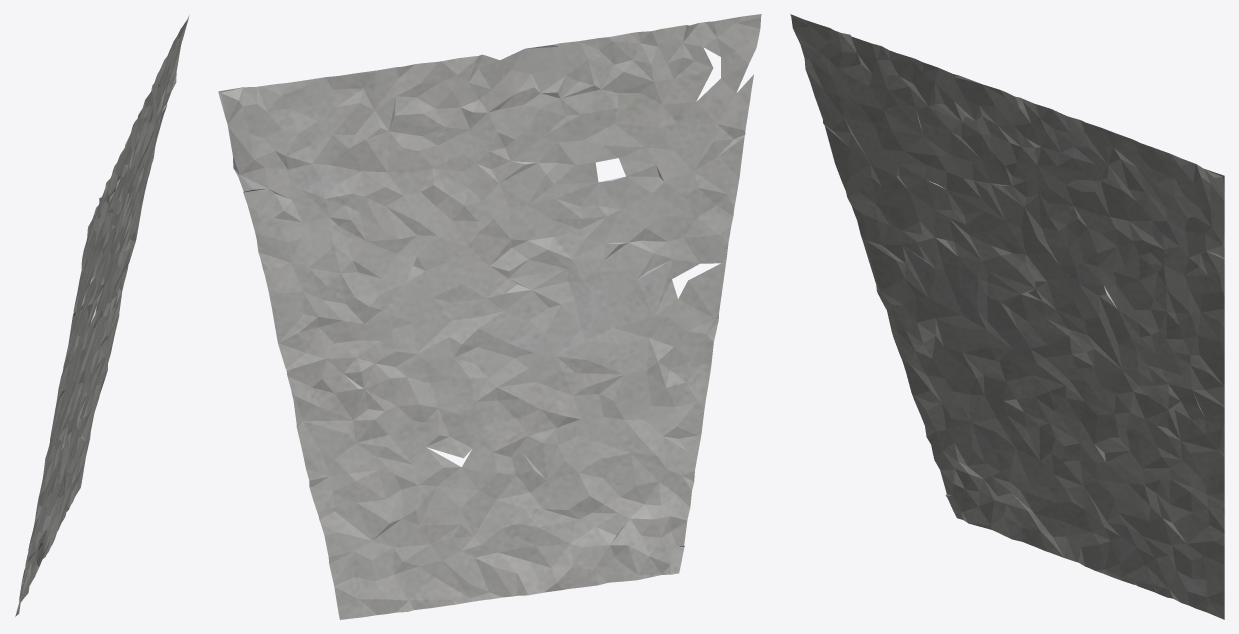
The picture shows the model from 3 angles, left to right: view 1: azimuth 30°, elevation 25°; view 2: azimuth 150°, elevation 25°; view 3: azimuth 270°, elevation 25°; orthographic projection. The views are drawn at different scales.
Bounding box in the file's own units: 0.5765 × 0.8374 × 0.6542.
Materials: 2 (2 with a texture image).
